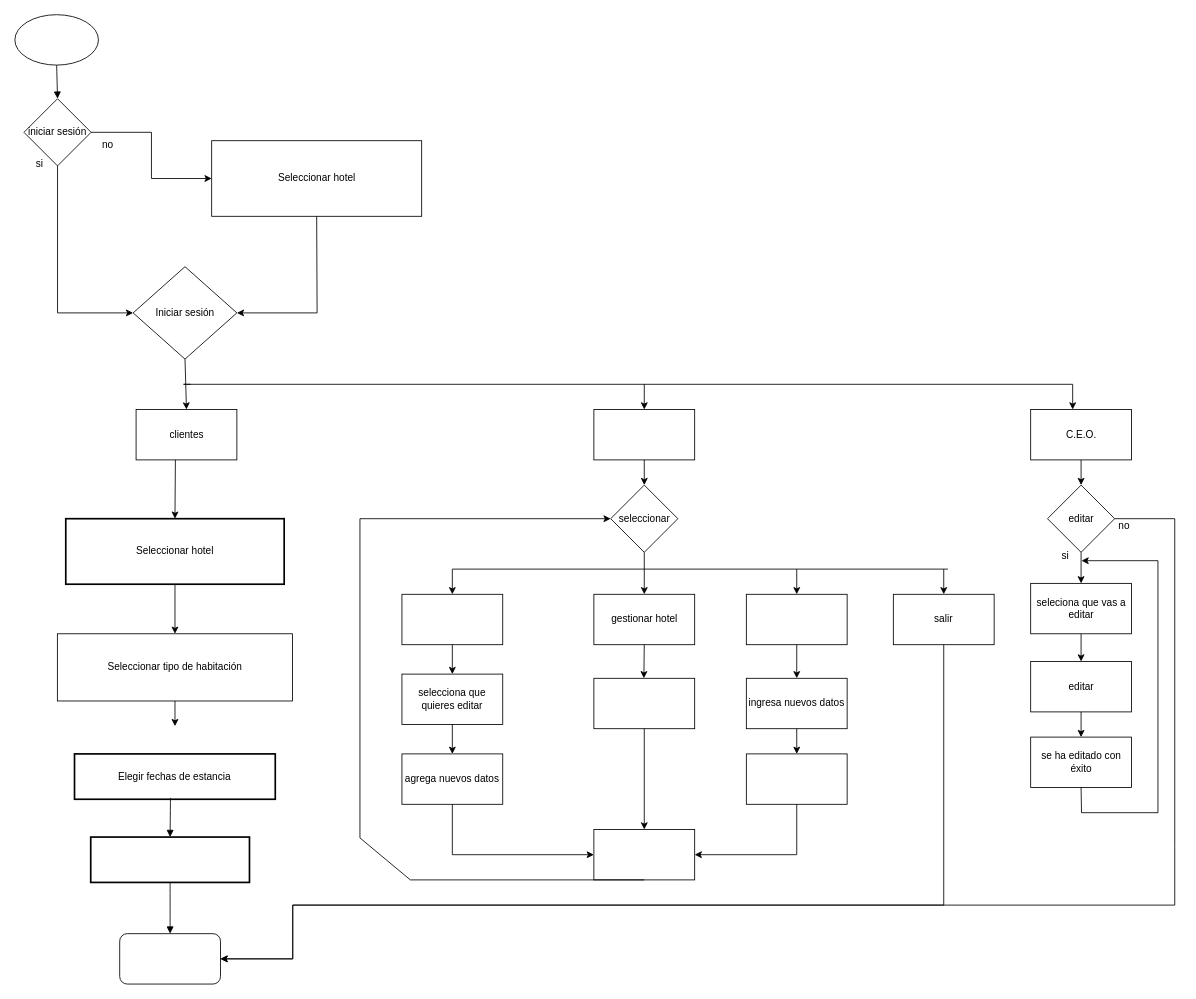
Some shapes in this 1196 by 999 pixel diagram are drawn without their labels. The shapes that lost their labels are listed below. From the top down, each one's centre as x and y in pixels, then its label:
At (x=56, y=39): "Inicio".
At (x=644, y=434): "Admin".
At (x=452, y=619): "actualizar hotel".
At (x=796, y=619): "Ingresar nuevo hotel".
At (x=644, y=703): "ver reservas".
At (x=796, y=778): "creado con exito".
At (x=169, y=859): "Confirmar reserva".
At (x=644, y=854): "vover".
At (x=169, y=958): "Fin".
